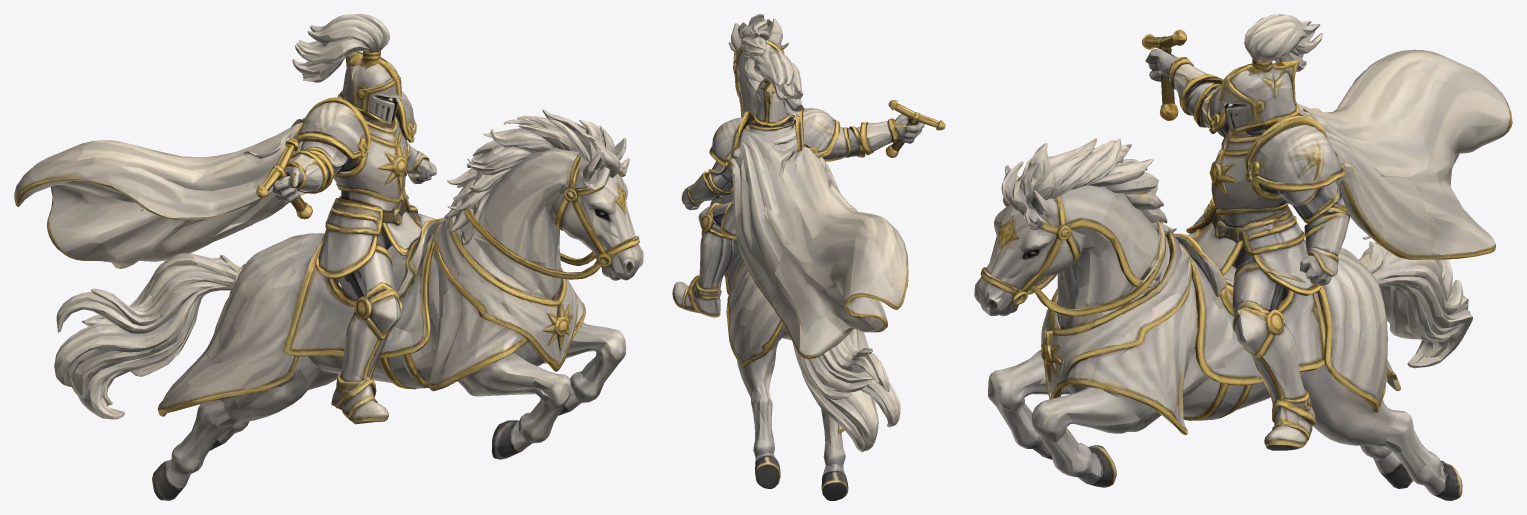
Rendered from paladin_white.glb.
3 views of the same model, side by side, from view 1: azimuth 30°, elevation 25°; view 2: azimuth 150°, elevation 25°; view 3: azimuth 270°, elevation 25° (orthographic). The views are drawn at different scales.
Bounding box in the file's own units: 1.68 × 1.9 × 1.72.
Materials: 1 (1 with a texture image).
